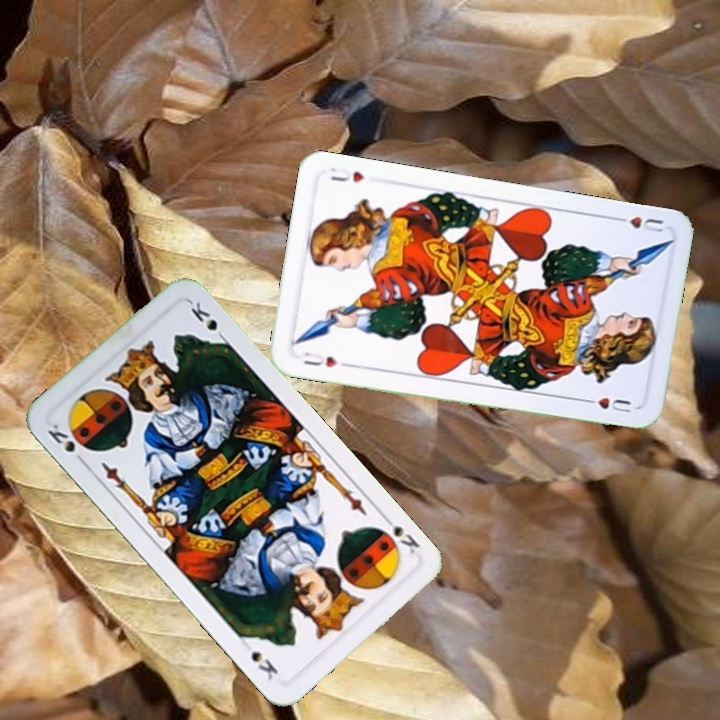HU: (609, 212, 666, 236), (299, 348, 340, 370)
SK: (43, 419, 89, 468), (378, 511, 423, 556)
